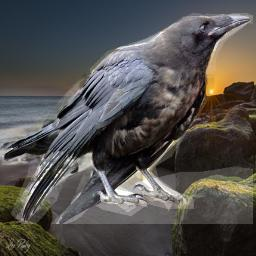Crow: (2, 13, 253, 224)
